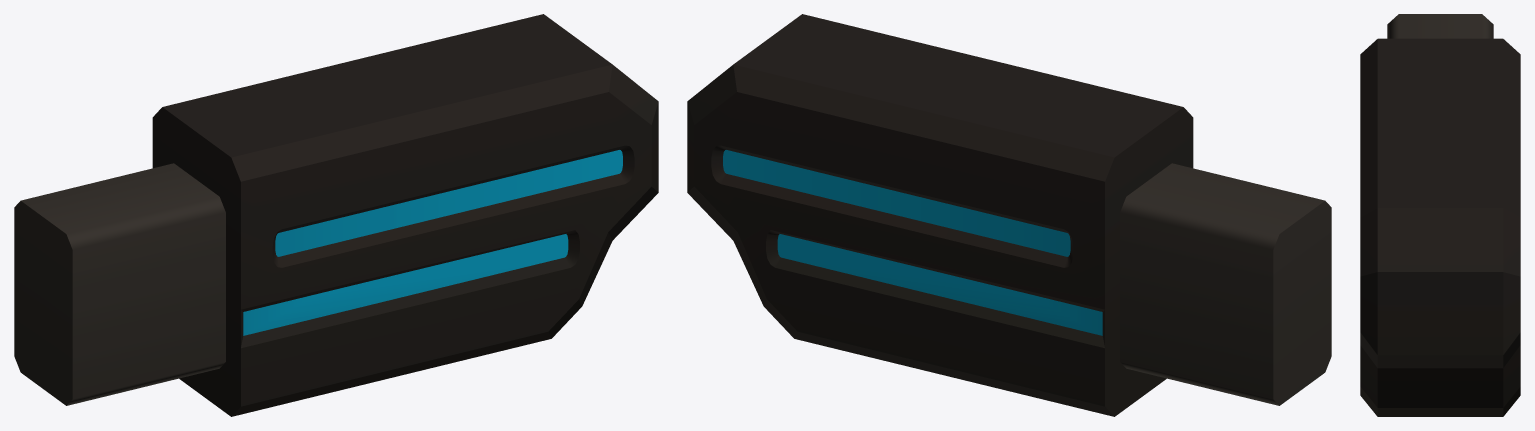
Rendered from Pistol6_MagazineExtended.fbx.
The picture shows the model from 3 angles, left to right: view 1: azimuth 30°, elevation 25°; view 2: azimuth 150°, elevation 25°; view 3: azimuth 270°, elevation 25°; orthographic projection. The views are drawn at different scales.
Parts seen in each view (by area): view 1: Pistol6_MagazineExtended; view 2: Pistol6_MagazineExtended; view 3: Pistol6_MagazineExtended.
Part boxes in pixels (left/top/right/bottom): Pistol6_MagazineExtended: left=14, top=14, right=658, bottom=416; Pistol6_MagazineExtended: left=687, top=14, right=1331, bottom=416; Pistol6_MagazineExtended: left=1360, top=14, right=1520, bottom=416.
Size of the model in its own units: 9 by 3.84 by 2.36.
